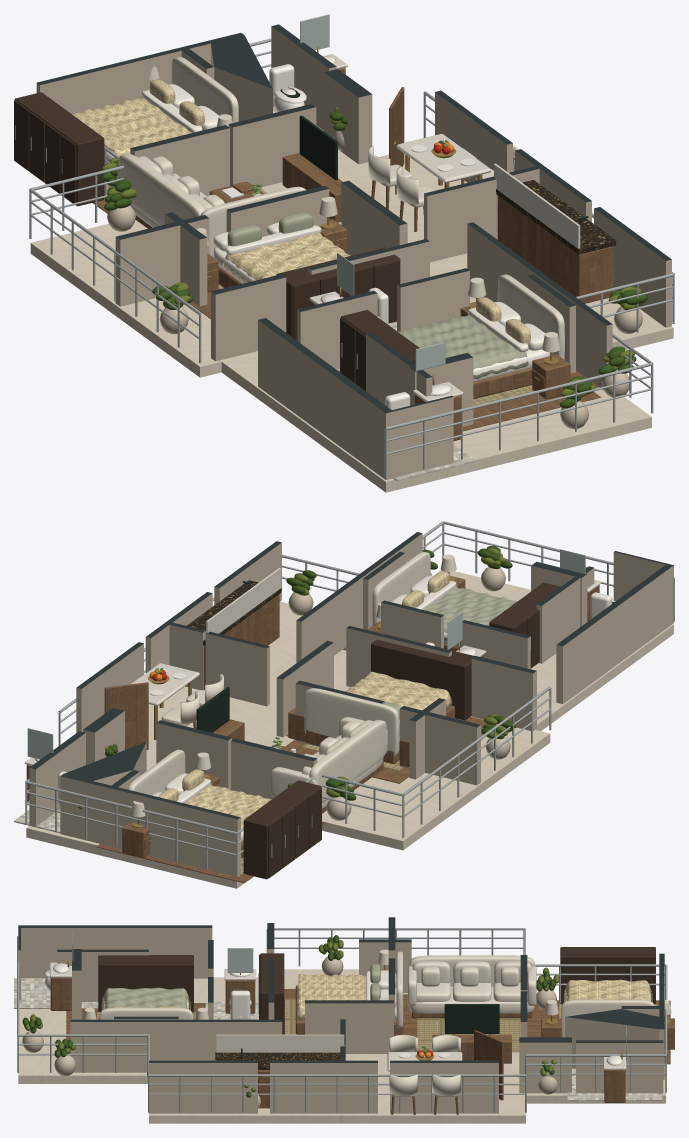
3 views of the same model, one above another, from view 1: azimuth 30°, elevation 25°; view 2: azimuth 150°, elevation 25°; view 3: azimuth 270°, elevation 25° (orthographic). The views are drawn at different scales.
Visible parts, largest first — view 1: Source-traced internal and perimeter walls • Wall, Continuous apartment foundation, Base cabinets, Soft jacquard duvet with folds, Soft jacquard duvet with folds.002, Fitted dark wardrobe, Soft jacquard duvet with folds.001, Sofa back, Padded headboard.002, Backsplash, Padded headboard, Dining top (+25 smaller); view 2: Source-traced internal and perimeter walls • Wall, Continuous apartment foundation, Fitted dark wardrobe.001, Padded headboard.001, Sofa back, Fitted dark wardrobe, Soft jacquard duvet with folds.001, Soft jacquard duvet with folds.002, Oak entrance door, Padded headboard.002, Base cabinets, Soft jacquard duvet with folds (+18 smaller); view 3: Source-traced internal and perimeter walls • Wall, Continuous apartment foundation, Fitted dark wardrobe.002, Fitted dark wardrobe, Backsplash, Soft jacquard duvet with folds.001, Soft jacquard duvet with folds.002, Soft jacquard duvet with folds, Television, Fitted dark wardrobe.001, Living patterned carpet, Deep green kitchen stone (+53 smaller).
Part boxes in pixels (<box>): Source-traced internal and perimeter walls • Wall: <box>36,24,671,479</box>; Continuous apartment foundation: <box>30,149,673,492</box>; Base cabinets: <box>497,195,613,303</box>; Soft jacquard duvet with folds: <box>71,97,191,156</box>; Soft jacquard duvet with folds.002: <box>397,314,528,378</box>; Fitted dark wardrobe: <box>14,92,104,206</box>; Soft jacquard duvet with folds.001: <box>222,233,350,282</box>; Sofa back: <box>118,153,205,225</box>; Padded headboard.002: <box>497,274,564,359</box>; Backsplash: <box>494,163,580,248</box>; Padded headboard: <box>171,56,238,122</box>; Dining top: <box>396,133,491,182</box>; Source-traced internal and perimeter walls • Wall: <box>29,532,673,877</box>; Continuous apartment foundation: <box>26,570,673,888</box>; Fitted dark wardrobe.001: <box>371,634,474,720</box>; Padded headboard.001: <box>304,688,399,755</box>; Sofa back: <box>309,719,386,802</box>; Fitted dark wardrobe: <box>243,780,321,879</box>; Soft jacquard duvet with folds.001: <box>346,671,452,710</box>; Soft jacquard duvet with folds.002: <box>424,586,516,644</box>; Oak entrance door: <box>104,682,148,749</box>; Padded headboard.002: <box>372,552,430,625</box>; Base cabinets: <box>203,594,279,689</box>; Soft jacquard duvet with folds: <box>185,784,271,828</box>; Source-traced internal and perimeter walls • Wall: <box>18,917,664,1113</box>; Continuous apartment foundation: <box>18,969,665,1123</box>; Fitted dark wardrobe.002: <box>98,955,193,1011</box>; Fitted dark wardrobe: <box>560,947,655,1003</box>; Backsplash: <box>216,1034,344,1052</box>; Soft jacquard duvet with folds.001: <box>298,974,366,1019</box>; Soft jacquard duvet with folds.002: <box>102,987,189,1009</box>; Soft jacquard duvet with folds: <box>564,979,651,1001</box>; Television: <box>444,1004,499,1033</box>; Fitted dark wardrobe.001: <box>260,953,284,1034</box>; Living patterned carpet: <box>417,1018,520,1052</box>; Deep green kitchen stone: <box>215,1052,340,1068</box>.
Bounding box in the file's own units: 7.18 × 1.7 × 13.26.
26 materials, 6 textured.
